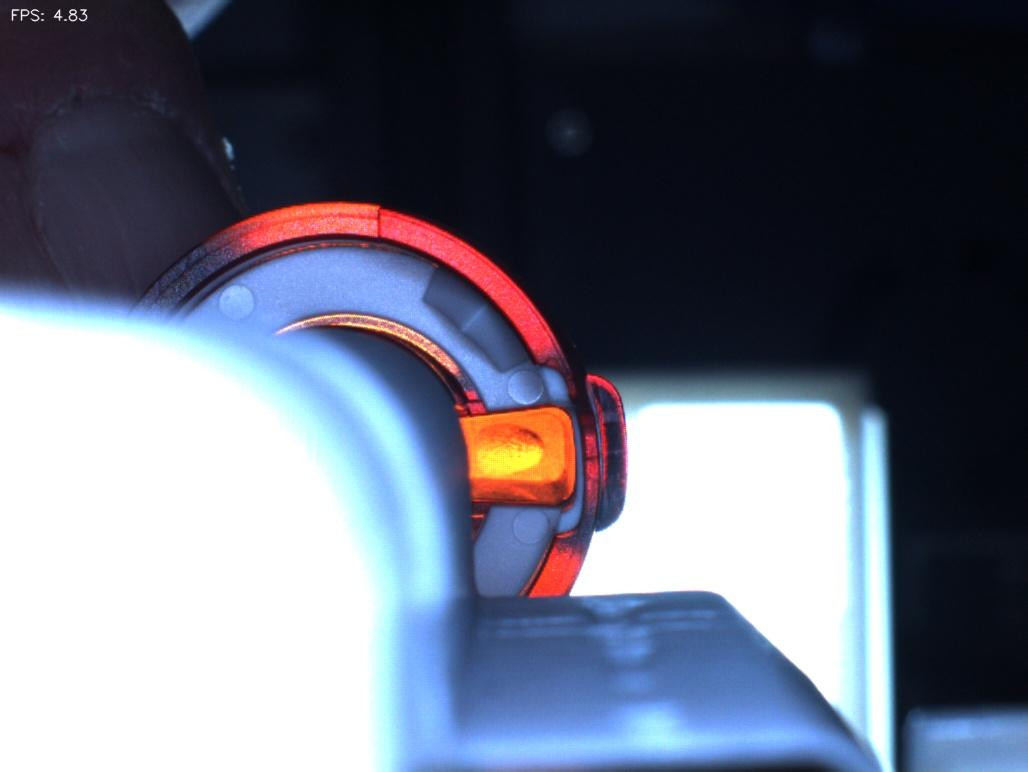Retassure: (462, 410, 550, 493)
